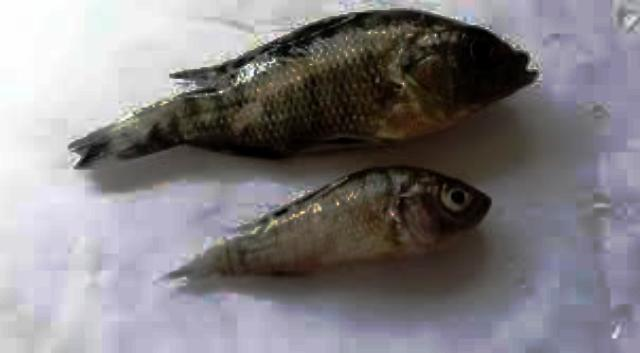Tilapia Lake Virus -TiLV-: (73, 11, 535, 167), (172, 165, 490, 278)
